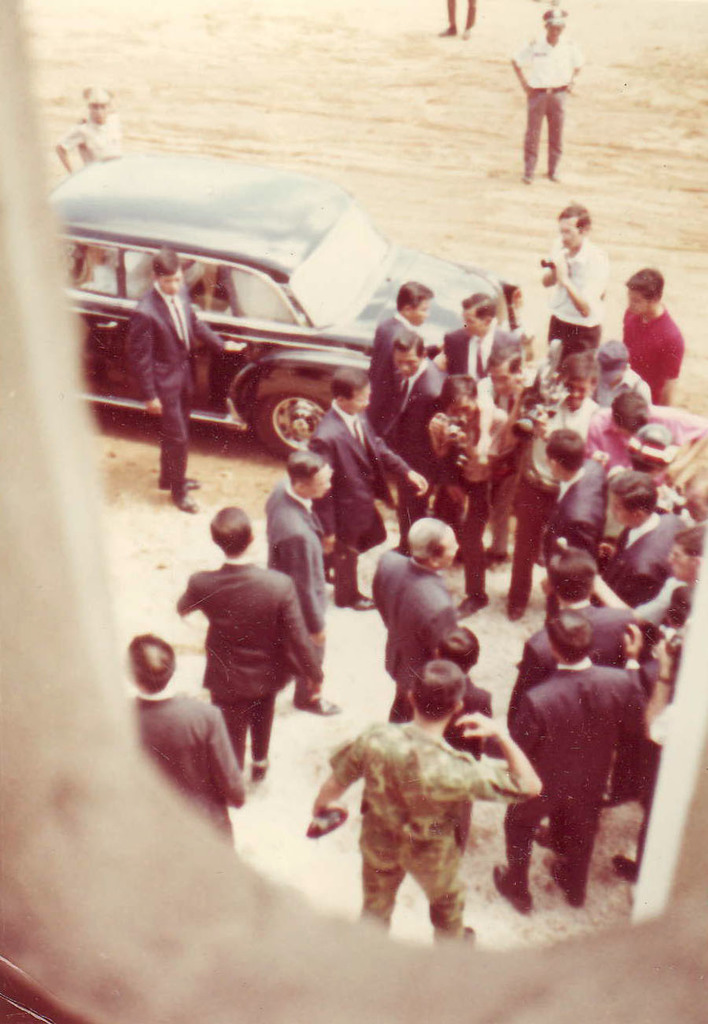mobil: (42, 131, 518, 497)
